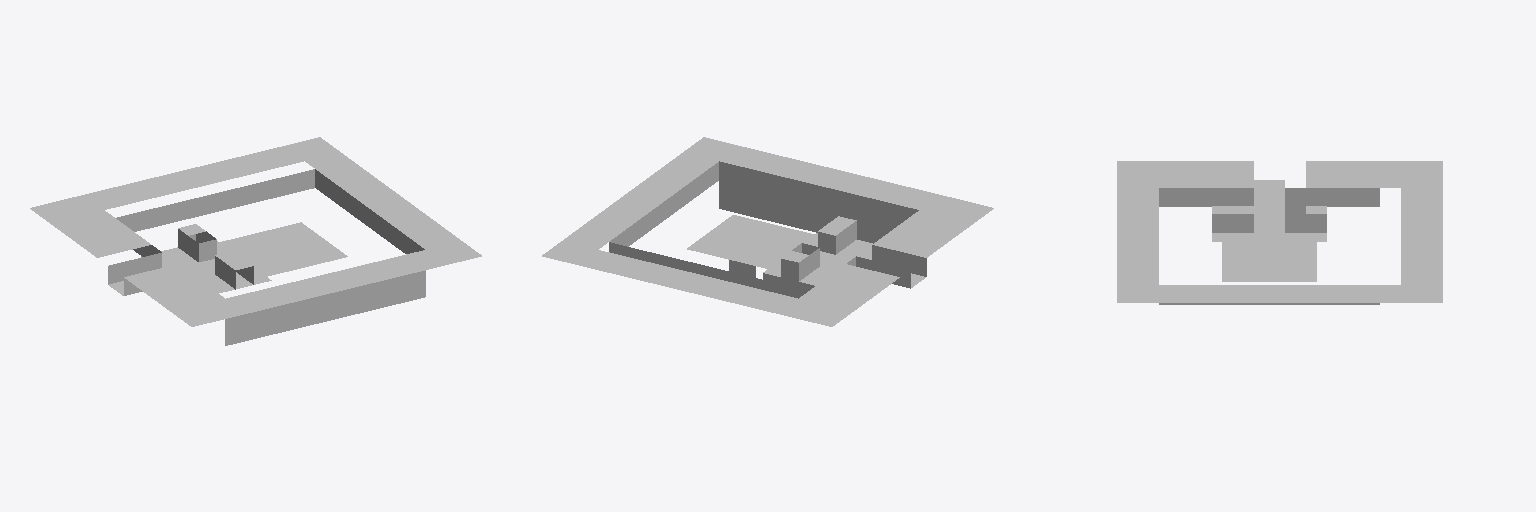
Rendered from lvl_shipGenerator2.obj.
The picture shows the model from 3 angles: view 1: azimuth 30°, elevation 25°; view 2: azimuth 150°, elevation 25°; view 3: azimuth 270°, elevation 25°; orthographic projection.
Visible parts, largest first — view 1: Default; view 2: Default; view 3: Default.
Boxes of the visible parts, <box> form: Default: <box>30,137,481,345</box>; Default: <box>542,137,993,326</box>; Default: <box>1117,161,1442,304</box>.
Bounding box in the file's own units: 32 × 5 × 31.